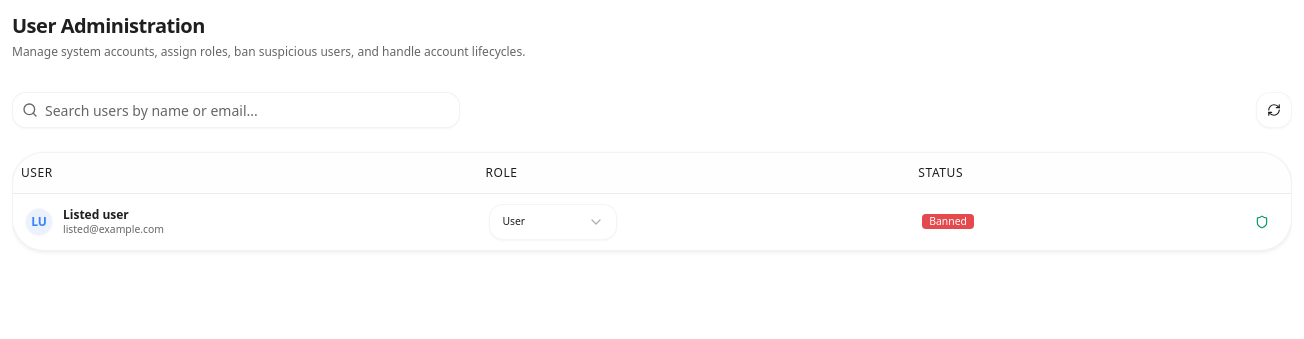
it: admin query lifecycle › invalidates the current search after a write and preserves protocol errors
Expected: the text "Listed user" is shown, [63, 206, 129, 223]
In the search field: (236, 110) [12, 92, 460, 128], type "listed"
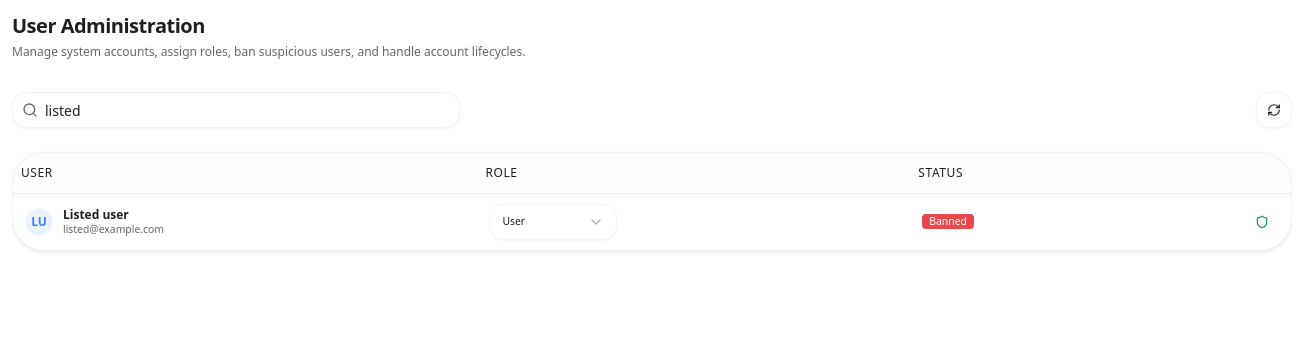
Expected: the text "Listed user" is shown, [63, 206, 129, 223]
Click the button titled "Unban User": (1262, 222) [1245, 208, 1279, 236]
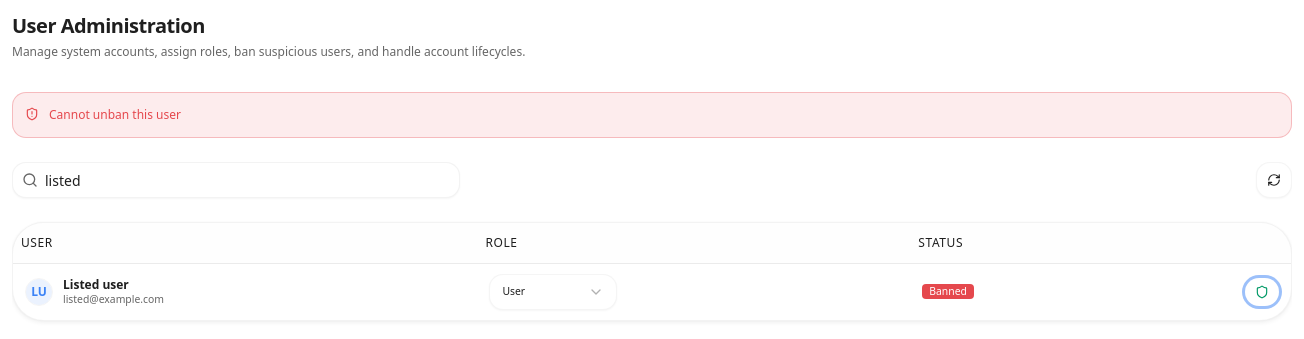
Expected: the text "Cannot unban this user" is shown, [49, 105, 181, 125]
Click the button titled "Unban User": (1262, 292) [1245, 278, 1279, 306]
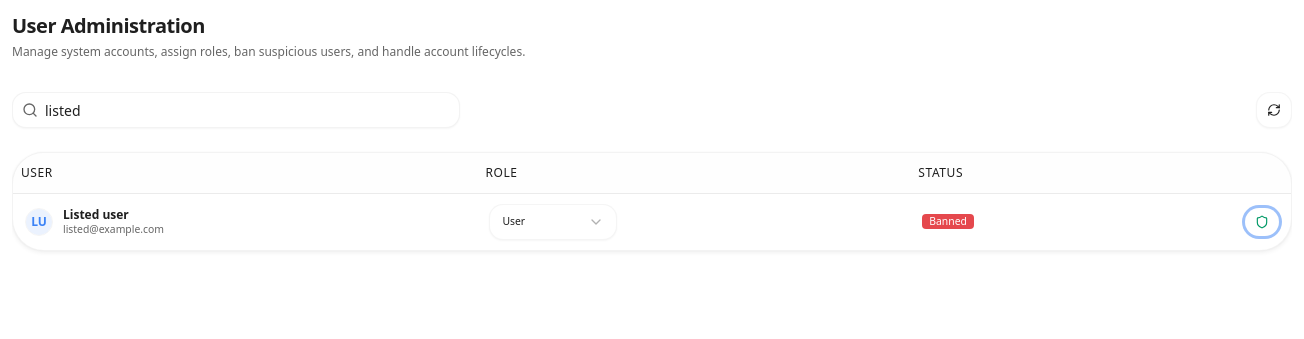
Expected: the text "Cannot unban this user" is gone
